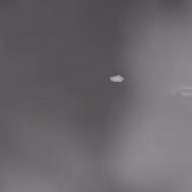Target: (110, 75, 124, 82)
